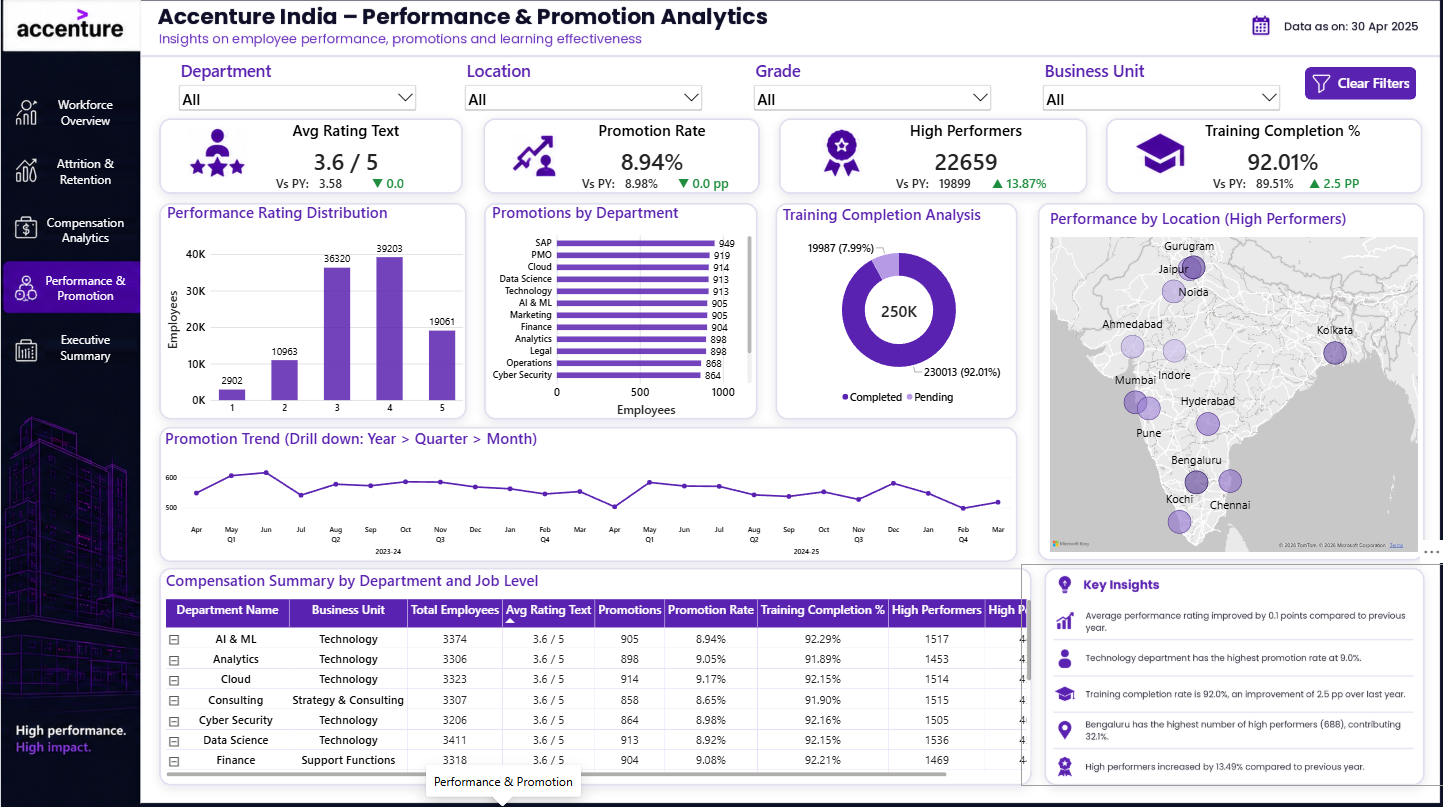

The page's visual inventory and layout, read from the dashboard file:
{"tool":"powerbi","page":{"name":"Performance & Promotion ","canvas":[2560,1440],"ordinal":3},"visuals":[{"type":"group","id":"g1","title":"Slicers","box":[309.7,108.4,1964.2,103.9],"z":0},{"type":"slicer","fields":{"Values":["Dim Department.Department Name"]},"box":[309.7,109,431.2,103.4],"z":0,"group":"g1"},{"type":"group","id":"g2","title":"Side-KPI","box":[1029.7,309.8,286.7,35.8],"z":0,"group":"g7"},{"type":"group","id":"g3","title":"Side-KPI","box":[1586.7,309.8,286.7,35.8],"z":0,"group":"g8"},{"type":"group","id":"g4","title":"Side-KPI","box":[2150,309.8,286.7,35.8],"z":0,"group":"g9"},{"type":"group","id":"g5","title":"Side-KPI","box":[487.2,310,286.7,35.8],"z":0,"group":"g6"},{"type":"textbox","box":[1029.7,314.1,78.3,28.7],"z":0,"group":"g2"},{"type":"textbox","box":[1586.7,314.1,78.3,28.7],"z":0,"group":"g3"},{"type":"textbox","box":[2150,314.1,78.3,28.7],"z":0,"group":"g4"},{"type":"textbox","box":[487.2,314.3,78.3,28.7],"z":0,"group":"g5"},{"type":"slicer","fields":{"Values":["Dim Location.City"]},"box":[816.3,108.4,431.2,99.2],"z":1000,"group":"g1"},{"type":"actionButton","box":[2312.5,122.5,197.5,58.2],"z":1000},{"type":"cardVisual","fields":{"Data":["Measures_4.Promotion Rate"]},"box":[987.3,212,333.7,107.2],"z":1000,"group":"g7"},{"type":"cardVisual","fields":{"Data":["Measures_4.High Performers"]},"box":[1544.3,212,333.7,107.2],"z":1000,"group":"g8"},{"type":"cardVisual","fields":{"Data":["Measures_4.Training Completion %"]},"box":[2107.6,212,333.7,107.2],"z":1000,"group":"g9"},{"type":"cardVisual","fields":{"Data":["Measures_4.Avg Rating Text"]},"box":[444.8,212.2,333.7,107.2],"z":1000,"group":"g6"},{"type":"cardVisual","fields":{"Data":["Measures_4.Promotion Rate PY"]},"box":[1090.7,309.8,115.8,35.8],"z":1000,"group":"g2"},{"type":"cardVisual","fields":{"Data":["Measures_4.High Performers PY"]},"box":[1647.7,309.8,115.8,35.8],"z":1000,"group":"g3"},{"type":"cardVisual","fields":{"Data":["Measures_4.Training Completion PY"]},"box":[2211,309.8,115.8,35.8],"z":1000,"group":"g4"},{"type":"cardVisual","fields":{"Data":["Measures_4.Avg Rating PY"]},"box":[548.2,310,115.8,35.8],"z":1000,"group":"g5"},{"type":"slicer","fields":{"Values":["Dim Job Level.Grade"]},"box":[1329.5,108.4,431.2,99.5],"z":2000,"group":"g1"},{"type":"image","box":[2322.5,135,37.5,35],"z":2000},{"type":"cardVisual","title":"%","fields":{"Data":["Measures_4.Promotion Change Label"]},"box":[1184.1,310.2,132.3,34.4],"z":2000,"group":"g2"},{"type":"cardVisual","title":"%","fields":{"Data":["Measures_4.High Performers Growth Label"]},"box":[1741.1,310.2,132.3,34.4],"z":2000,"group":"g3"},{"type":"cardVisual","title":"%","fields":{"Data":["Measures_4.Training Change Label"]},"box":[2304.4,310.2,132.3,34.4],"z":2000,"group":"g4"},{"type":"cardVisual","title":"%","fields":{"Data":["Measures_4.Rating Change Label"]},"box":[641.6,310.4,132.3,34.4],"z":2000,"group":"g5"},{"type":"slicer","fields":{"Values":["Dim Department.Business Unit"]},"box":[1842.7,108.4,431.2,99.5],"z":3000,"group":"g1"},{"type":"group","id":"g6","title":"2nd KPI","box":[444.8,212.2,334.6,133],"z":3000},{"type":"group","id":"g7","title":"2nd KPI","box":[987.3,212,334.6,133],"z":4000},{"type":"group","id":"g8","title":"2nd KPI","box":[1544.3,212,334.6,133],"z":5000},{"type":"group","id":"g9","title":"2nd KPI","box":[2107.6,212,334.6,133],"z":6000},{"type":"columnChart","title":"Performance Rating Distribution","fields":{"Category":["Fact Performance.Performance Rating"],"Y":["Measures_4.Performance Employees"]},"box":[278.5,347.1,557,411.5],"z":7000},{"type":"barChart","title":"Promotions by Department","fields":{"Category":["Dim Department.Department Name"],"Y":["Measures_4.Promotions"]},"box":[854.3,347.1,492.6,411.5],"z":8000},{"type":"donutChart","title":"Training Completion Analysis","fields":{"Category":["Fact Training.Training Status"],"Y":["Measures_4.Training Records"]},"box":[1376,351.3,438.6,388.7],"z":9000},{"type":"map","title":"Performance by Location (High Performers)","fields":{"Category":["Dim Location.City"],"Size":["Measures_4.High Performers"]},"box":[1843.7,357.5,683.8,640.2],"z":10000},{"type":"lineChart","title":"Promotion Trend (Drill down: Year > Quarter > Month)","fields":{"Category":["Dim Date.Financial Year","Dim Date.Fiscal Quarter","Dim Date.Month Name"],"Y":["Measures_4.Promotions"]},"box":[274.4,748.3,1534,266.1],"z":11000},{"type":"pivotTable","title":"Compensation Summary by Department and Job Level","fields":{"Rows":["Dim Department.Department Name","Dim Department.Business Unit"],"Values":["Measures_1.Total Employees","Measures_4.Avg Rating Text","Measures_4.Promotions","Measures_4.Promotion Rate","Measures_4.Training Completion %","Measures_4.High Performers","Measures_4.High Performer %"]},"box":[276.4,999.8,1567.2,397],"z":12000},{"type":"image","box":[1808.3,1003.9,752.4,392.8],"z":13000},{"type":"pageNavigator","box":[54,153.8,193.3,523.8],"z":13001}]}

Visuals, with their boxes on the page's 2560x1440 design canvas (x1, y1, x2, y2). These are canvas units, not pixel positions in the 1443x807 screenshot, which may show the page scaled, cropped or inside an application window:
"Slicers" group: l=310, t=108, r=2274, b=212
slicer - Dim Department.Department Name: l=310, t=109, r=741, b=212
"Side-KPI" group: l=1030, t=310, r=1316, b=346
"Side-KPI" group: l=1587, t=310, r=1873, b=346
"Side-KPI" group: l=2150, t=310, r=2437, b=346
"Side-KPI" group: l=487, t=310, r=774, b=346
textbox: l=1030, t=314, r=1108, b=343
textbox: l=1587, t=314, r=1665, b=343
textbox: l=2150, t=314, r=2228, b=343
textbox: l=487, t=314, r=566, b=343
slicer - Dim Location.City: l=816, t=108, r=1248, b=208
actionButton: l=2312, t=122, r=2510, b=181
cardVisual - Measures_4.Promotion Rate: l=987, t=212, r=1321, b=319
cardVisual - Measures_4.High Performers: l=1544, t=212, r=1878, b=319
cardVisual - Measures_4.Training Completion %: l=2108, t=212, r=2441, b=319
cardVisual - Measures_4.Avg Rating Text: l=445, t=212, r=778, b=319
cardVisual - Measures_4.Promotion Rate PY: l=1091, t=310, r=1206, b=346
cardVisual - Measures_4.High Performers PY: l=1648, t=310, r=1764, b=346
cardVisual - Measures_4.Training Completion PY: l=2211, t=310, r=2327, b=346
cardVisual - Measures_4.Avg Rating PY: l=548, t=310, r=664, b=346
slicer - Dim Job Level.Grade: l=1330, t=108, r=1761, b=208
image: l=2322, t=135, r=2360, b=170
"%" cardVisual: l=1184, t=310, r=1316, b=345
"%" cardVisual: l=1741, t=310, r=1873, b=345
"%" cardVisual: l=2304, t=310, r=2437, b=345
"%" cardVisual: l=642, t=310, r=774, b=345
slicer - Dim Department.Business Unit: l=1843, t=108, r=2274, b=208
"2nd KPI" group: l=445, t=212, r=779, b=345
"2nd KPI" group: l=987, t=212, r=1322, b=345
"2nd KPI" group: l=1544, t=212, r=1879, b=345
"2nd KPI" group: l=2108, t=212, r=2442, b=345
"Performance Rating Distribution" columnChart: l=278, t=347, r=836, b=759
"Promotions by Department" barChart: l=854, t=347, r=1347, b=759
"Training Completion Analysis" donutChart: l=1376, t=351, r=1815, b=740
"Performance by Location (High Performers)" map: l=1844, t=358, r=2528, b=998
"Promotion Trend (Drill down: Year > Quarter > Month)" lineChart: l=274, t=748, r=1808, b=1014
"Compensation Summary by Department and Job Level" pivotTable: l=276, t=1000, r=1844, b=1397
image: l=1808, t=1004, r=2561, b=1397
pageNavigator: l=54, t=154, r=247, b=678
